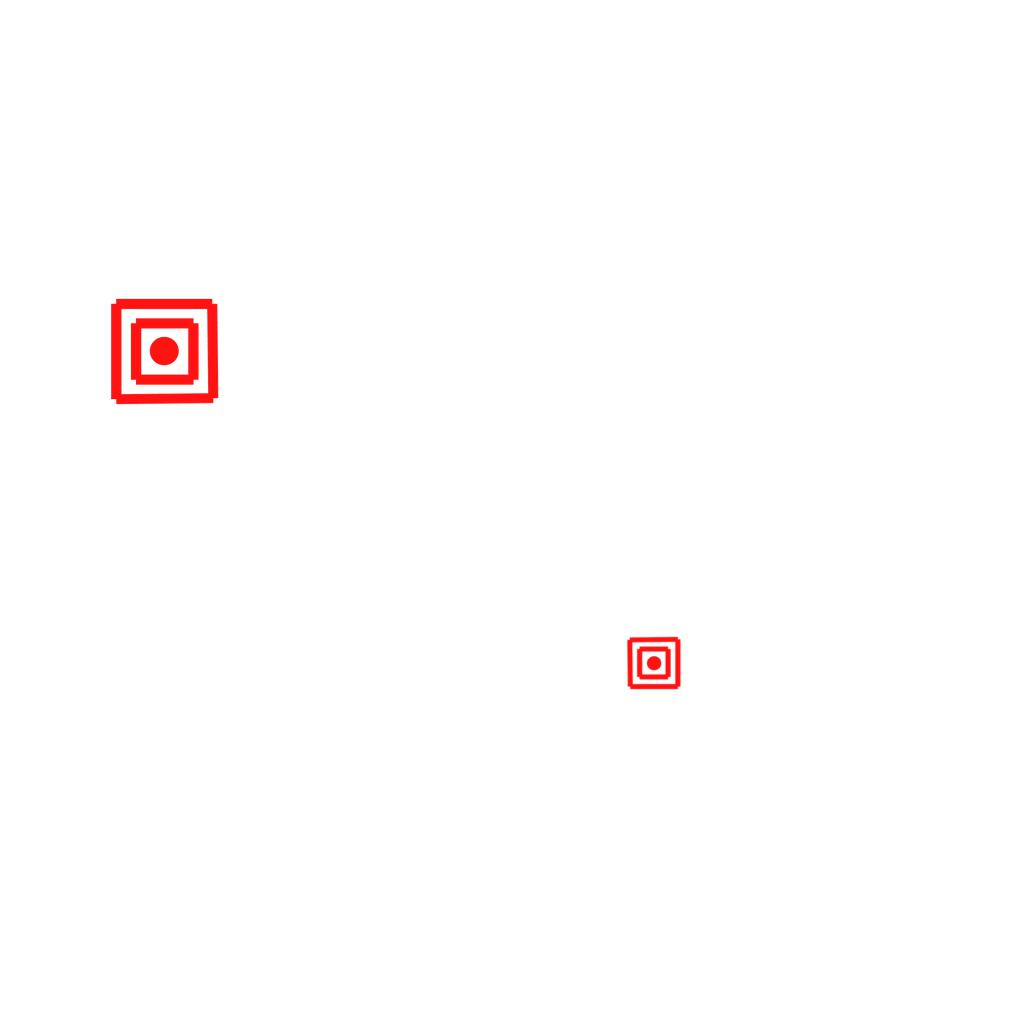NAM-Nichtautomatischer_Melder: (108, 295, 221, 408), (626, 635, 682, 691)
